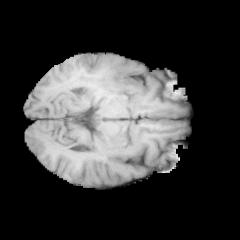glioma: (79, 56, 141, 94)
